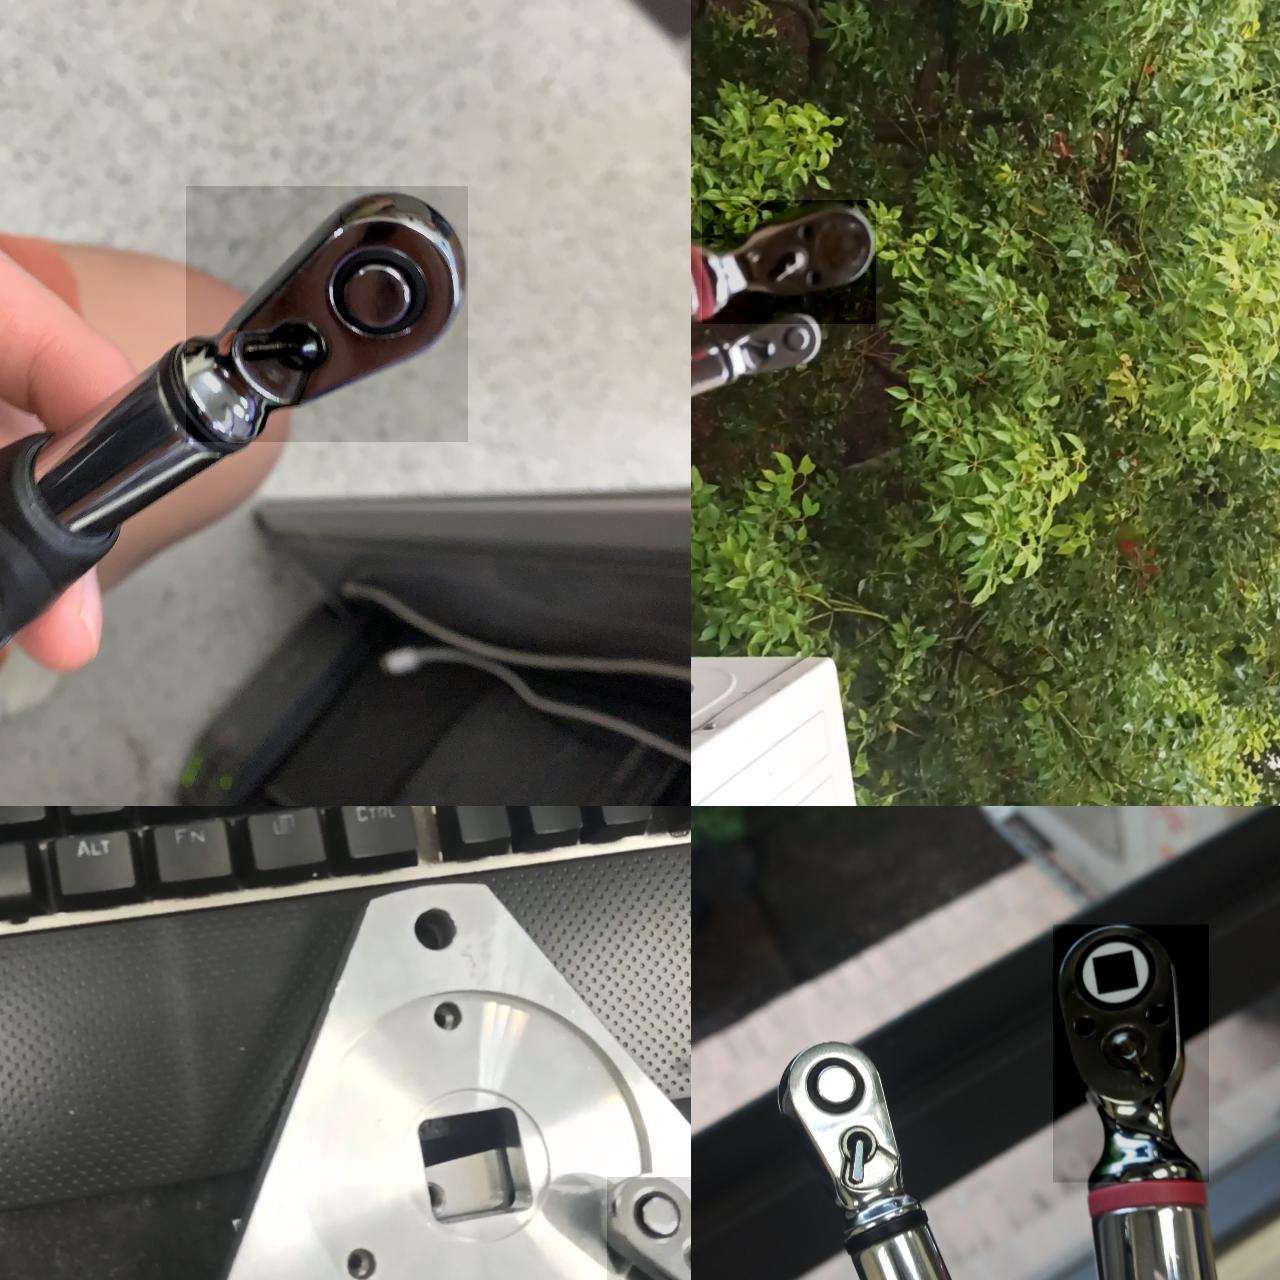Tool: (185, 185, 467, 441), (1051, 924, 1208, 1182), (778, 1039, 920, 1224), (701, 199, 874, 324), (606, 1176, 692, 1280), (733, 311, 823, 377)
hole: (241, 808, 327, 872), (402, 899, 465, 961), (423, 993, 465, 1036), (331, 1245, 377, 1280)
